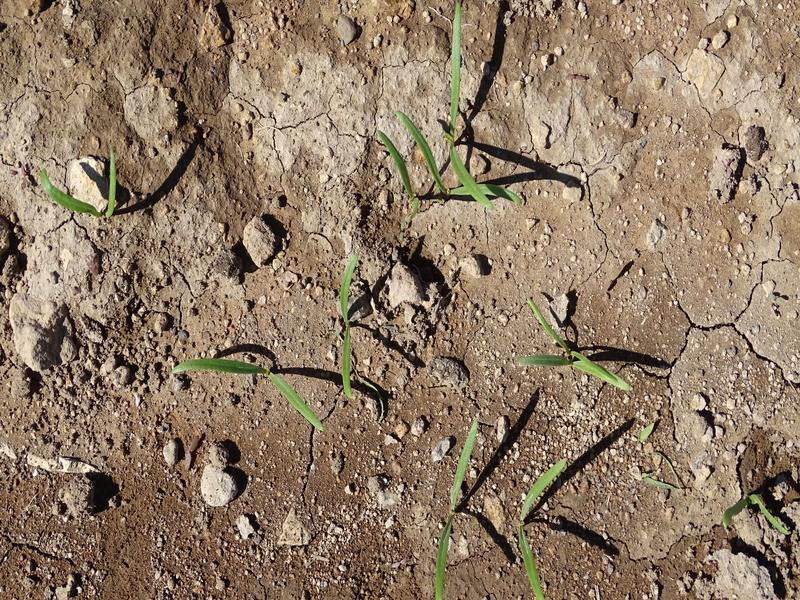Espinaca: (162, 353, 325, 433), (507, 297, 638, 392), (439, 4, 498, 209), (426, 417, 481, 597), (508, 454, 572, 592), (360, 117, 439, 215), (28, 155, 129, 222), (329, 254, 367, 399)
